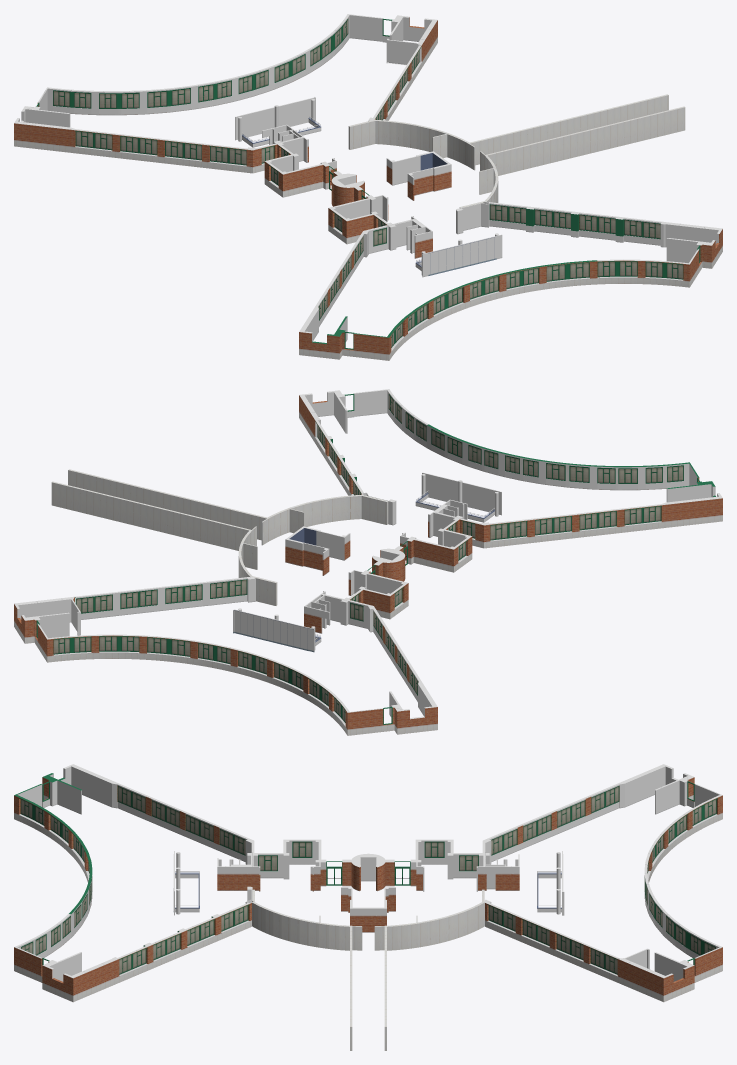
The model's file is WallsPB.dae.
3 views of the same model, one above another, from view 1: azimuth 30°, elevation 25°; view 2: azimuth 150°, elevation 25°; view 3: azimuth 270°, elevation 25° (orthographic). The views are drawn at different scales.
Parts seen in each view (by area): view 1: WallsPB-Pivot; view 2: WallsPB-Pivot; view 3: WallsPB-Pivot.
Boxes of the visible parts, x1,y1,x2,y2 form: WallsPB-Pivot: [14, 14, 722, 360]; WallsPB-Pivot: [14, 389, 722, 735]; WallsPB-Pivot: [14, 764, 722, 1050].
Bounding box in the file's own units: 7769 × 8855 × 370.
Materials: 9 (9 with a texture image).
